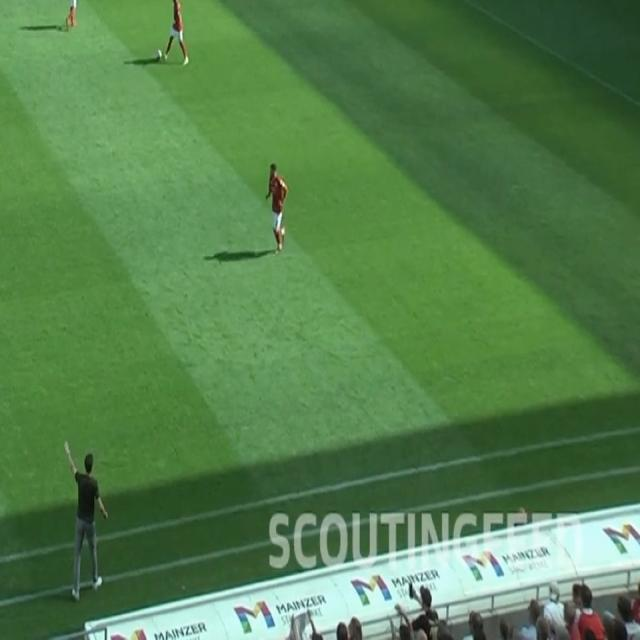ball: (156, 48, 163, 62)
